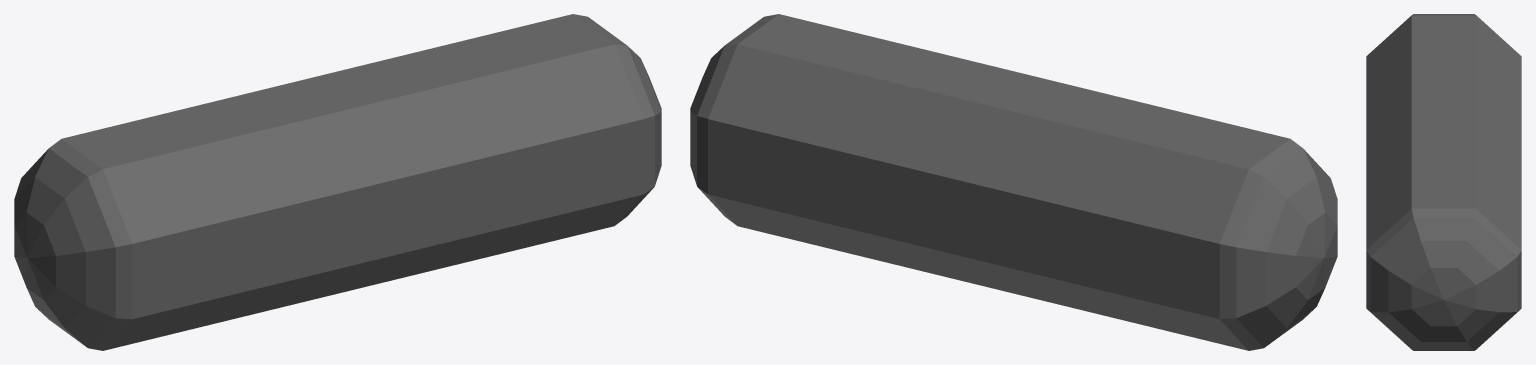
File: SM_Props_Industrial_Tank_07.fbx
3 views of the same model, side by side, from view 1: azimuth 30°, elevation 25°; view 2: azimuth 150°, elevation 25°; view 3: azimuth 270°, elevation 25° (orthographic). The views are drawn at different scales.
Visible parts, largest first — view 1: SM_Props_Industrial_Tank_07; view 2: SM_Props_Industrial_Tank_07; view 3: SM_Props_Industrial_Tank_07.
Boxes of the visible parts, box(x1,y1,x2,y2) form: SM_Props_Industrial_Tank_07: box(14, 14, 661, 350); SM_Props_Industrial_Tank_07: box(690, 14, 1337, 350); SM_Props_Industrial_Tank_07: box(1366, 14, 1521, 350).
Size of the model in its own units: 578 by 162 by 162.
